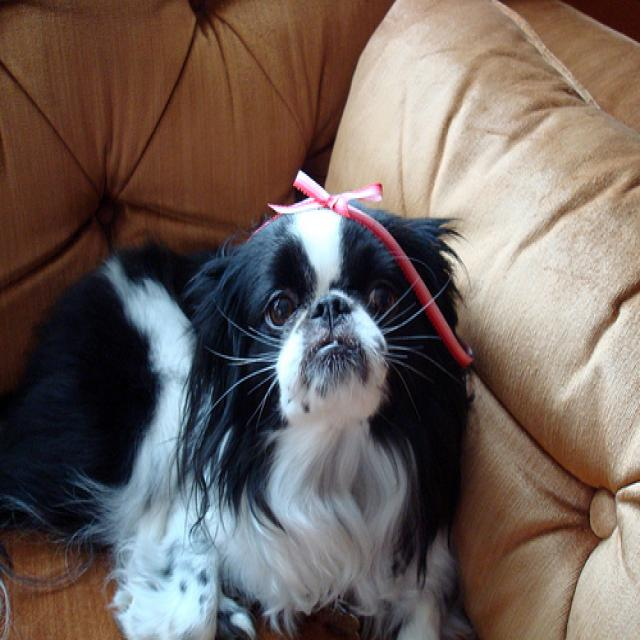dog-japanese_chin: (1, 198, 477, 637)
